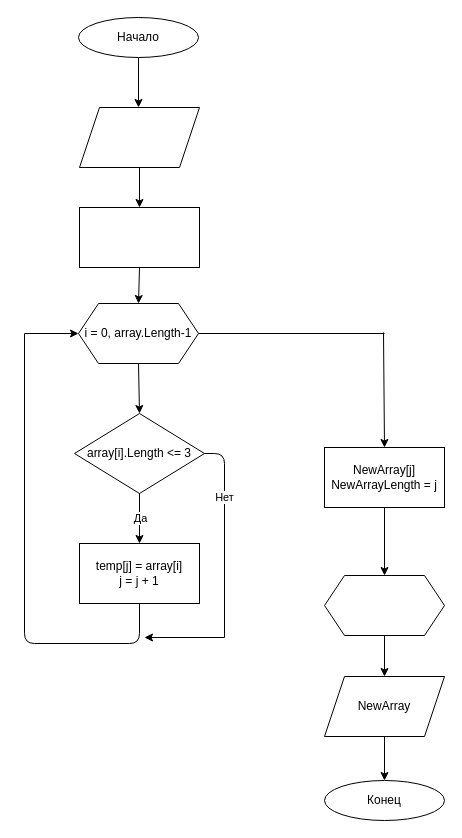
This 462x838 diagram has some shape labels left out. Here are the shapes that lost their labels. From the top down, the centre of each, then its label:
At [139,137]: "array".
At [139,237]: "j = 0".
At [384,605]: "i = 0, NewArrayLength-1".
